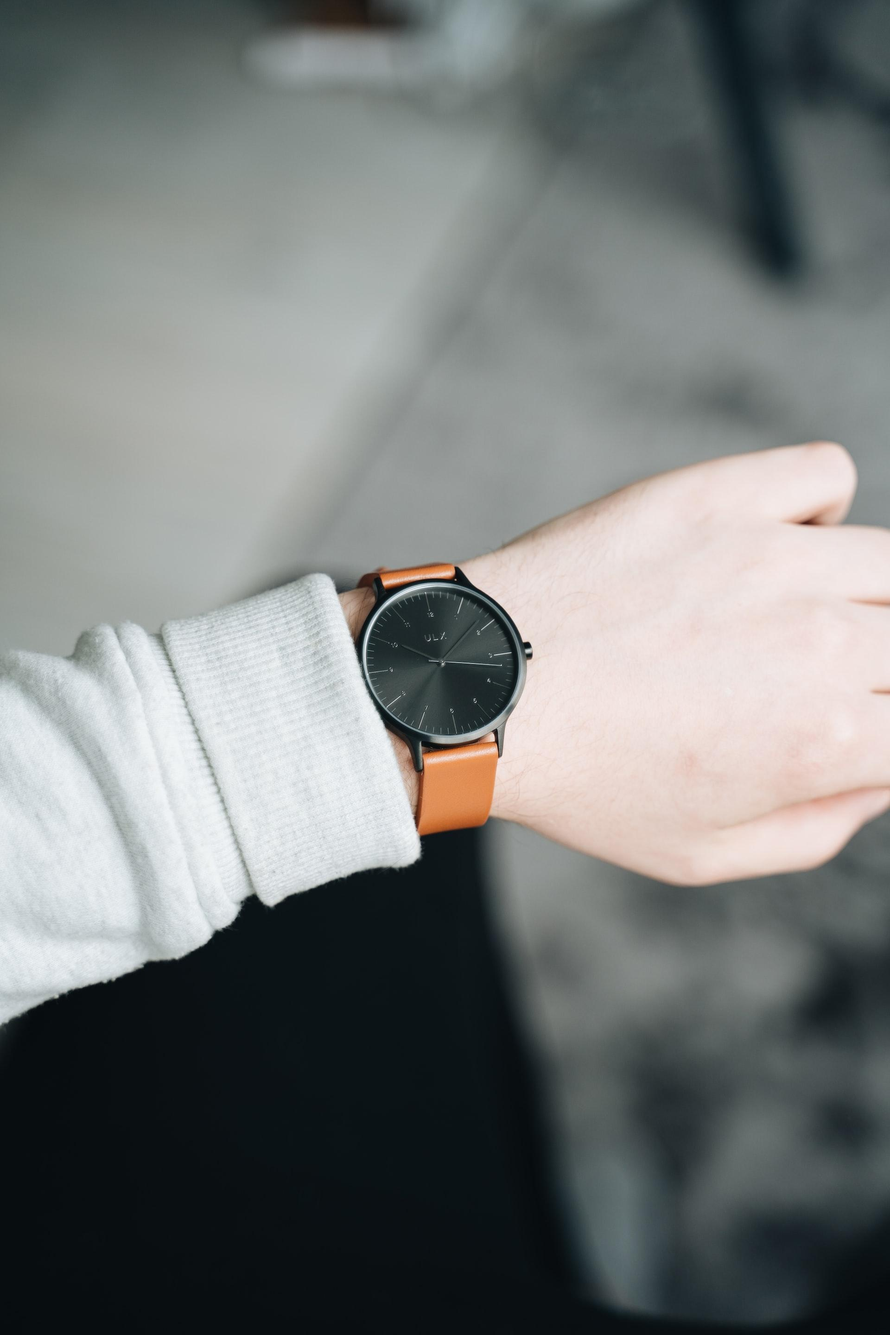watch: (331, 545, 541, 848)
